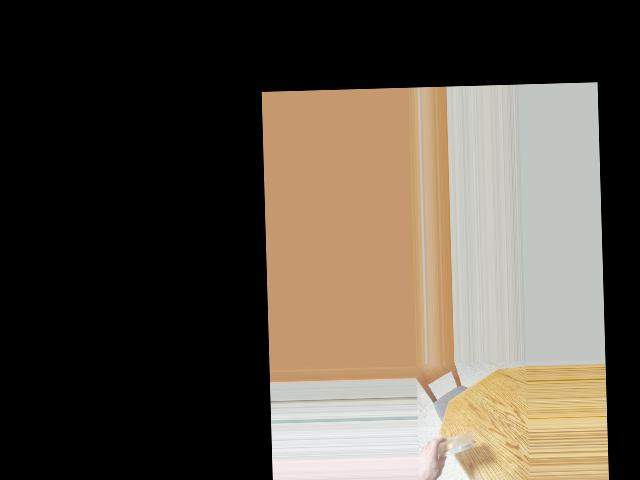cheese: (436, 429, 469, 458)
